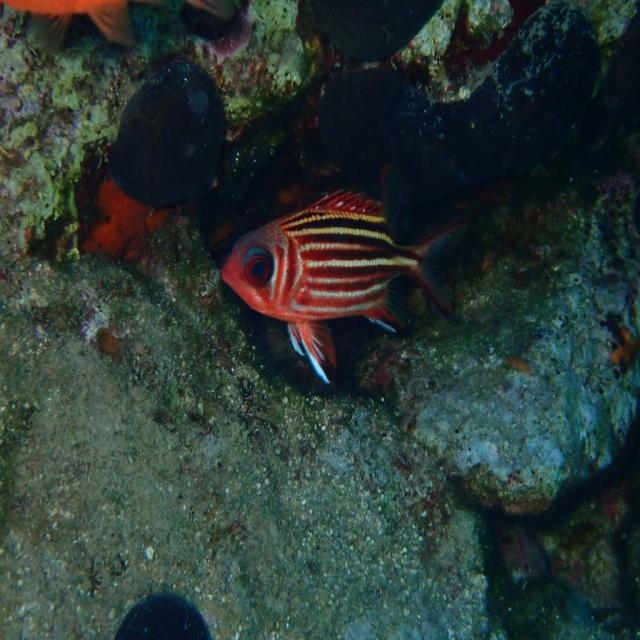Asker Baligi: (208, 168, 442, 400)
